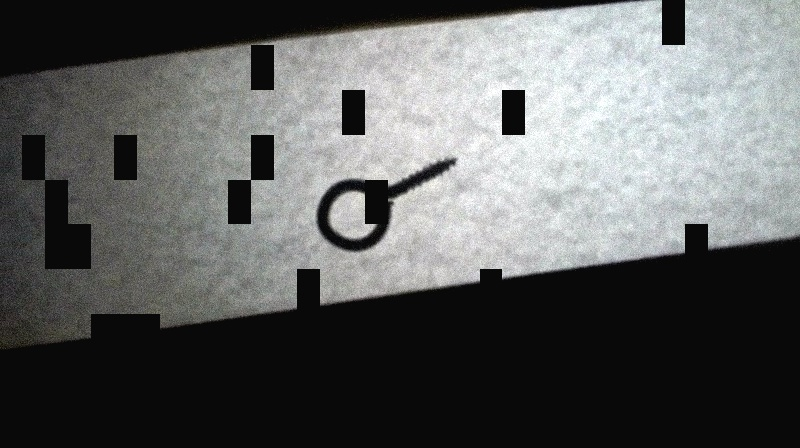O001: (310, 154, 460, 258)
